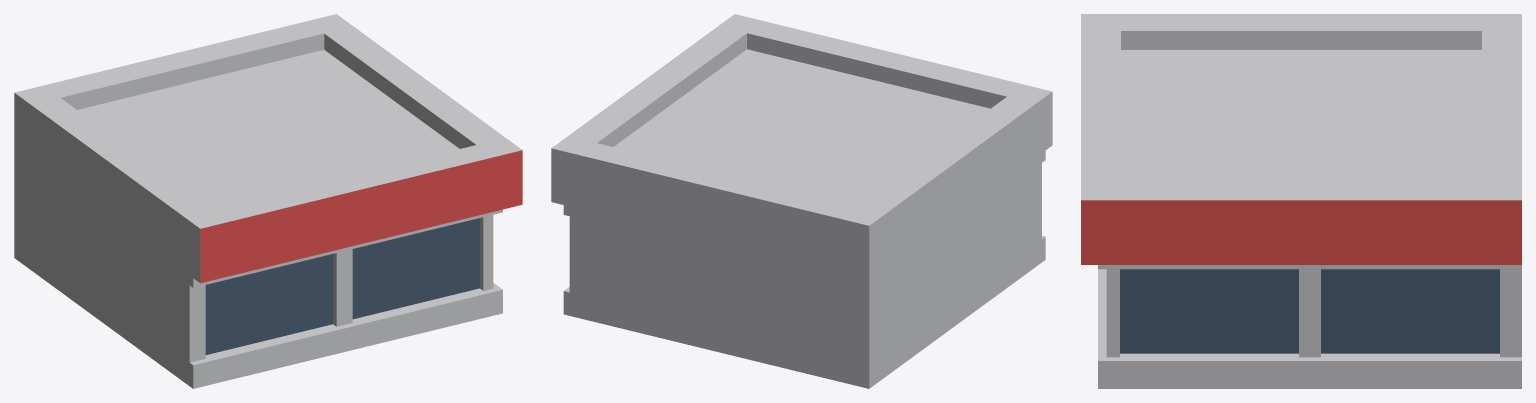
File: pitsOfficeCorner.glb
3 views of the same model, side by side, from view 1: azimuth 30°, elevation 25°; view 2: azimuth 150°, elevation 25°; view 3: azimuth 270°, elevation 25° (orthographic). The views are drawn at different scales.
Parts seen in each view (by area): view 1: pitsOfficeCorner(Clone); view 2: pitsOfficeCorner(Clone); view 3: pitsOfficeCorner(Clone).
Boxes of the visible parts, box(x1,y1,x2,y2) form: pitsOfficeCorner(Clone): box(14, 14, 522, 388); pitsOfficeCorner(Clone): box(551, 14, 1052, 388); pitsOfficeCorner(Clone): box(1081, 14, 1521, 388).
Bounding box in the file's own units: 1.04 × 0.51 × 1.04.
